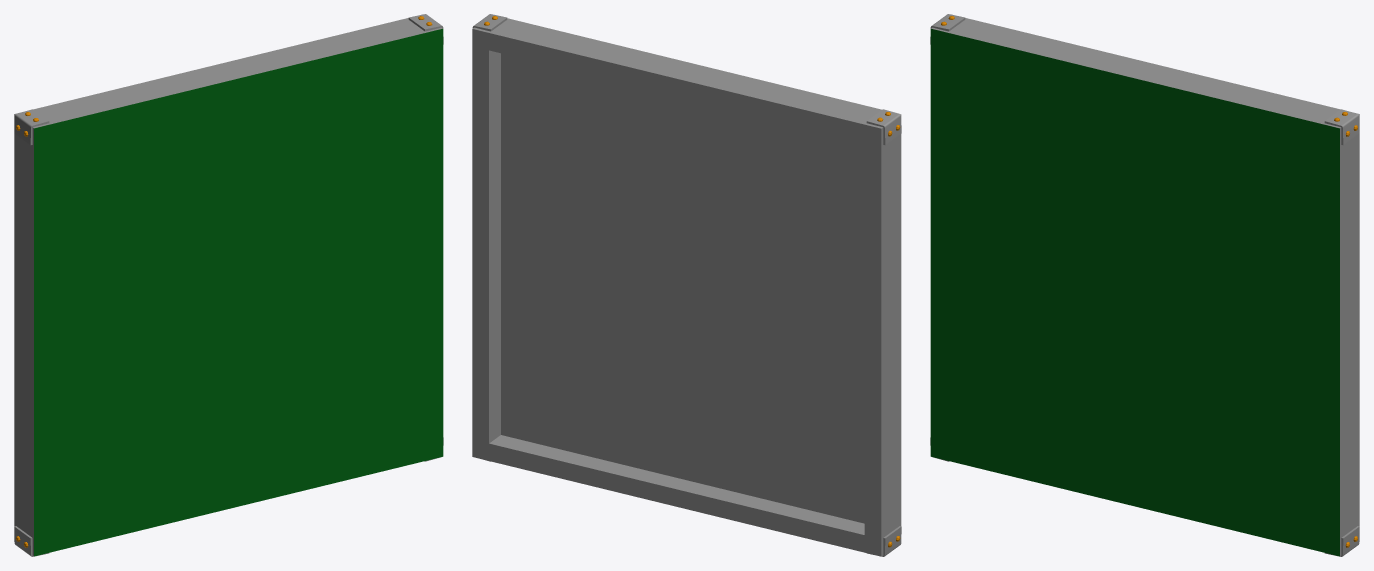
The model's file is trayrealighned.FBX.
The picture shows the model from 3 angles, left to right: view 1: azimuth 30°, elevation 25°; view 2: azimuth 150°, elevation 25°; view 3: azimuth 330°, elevation 25°; orthographic projection.
Visible parts, largest first — view 1: Box001; view 2: Box001; view 3: Box001.
Part boxes in pixels (x1,y1,x2,y2): Box001: [14, 14, 443, 556]; Box001: [472, 14, 901, 556]; Box001: [930, 14, 1359, 556].
Bounding box in the file's own units: 612 × 612 × 50.
